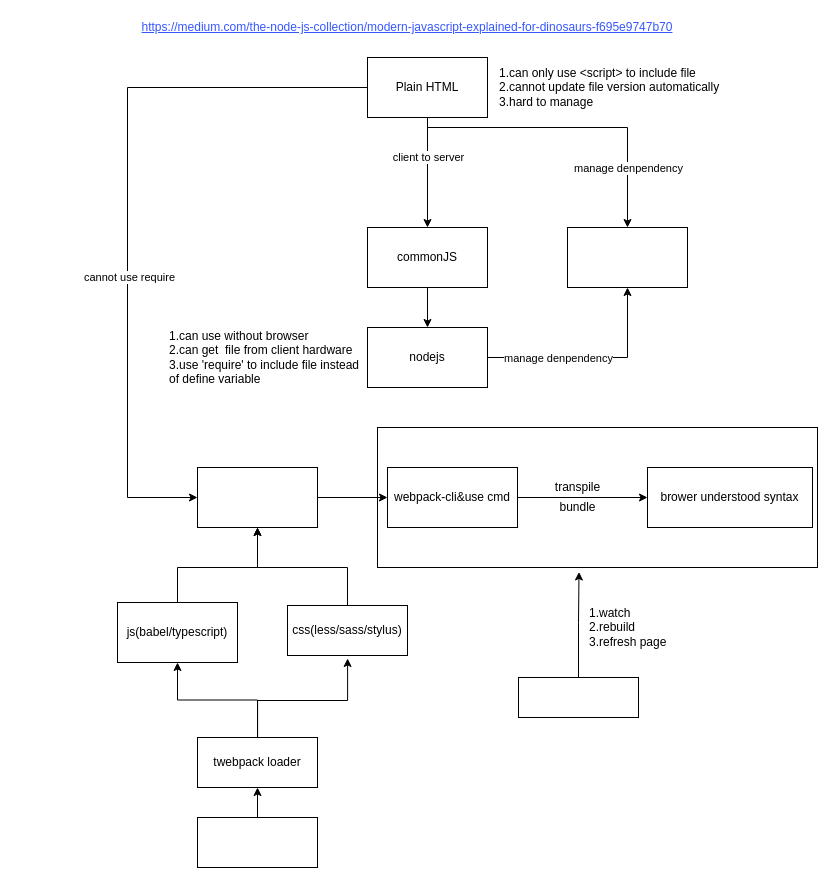
The diagram is 835 pixels wide and 885 high, and some of its shapes have lost their labels. The box of each missing label's shape, as (x1, y1, x2, y2) in pixels:
new language features: (196, 816, 318, 868)
npm: (566, 226, 688, 288)
webpack: (196, 466, 318, 528)
webpack server: (518, 676, 638, 718)
